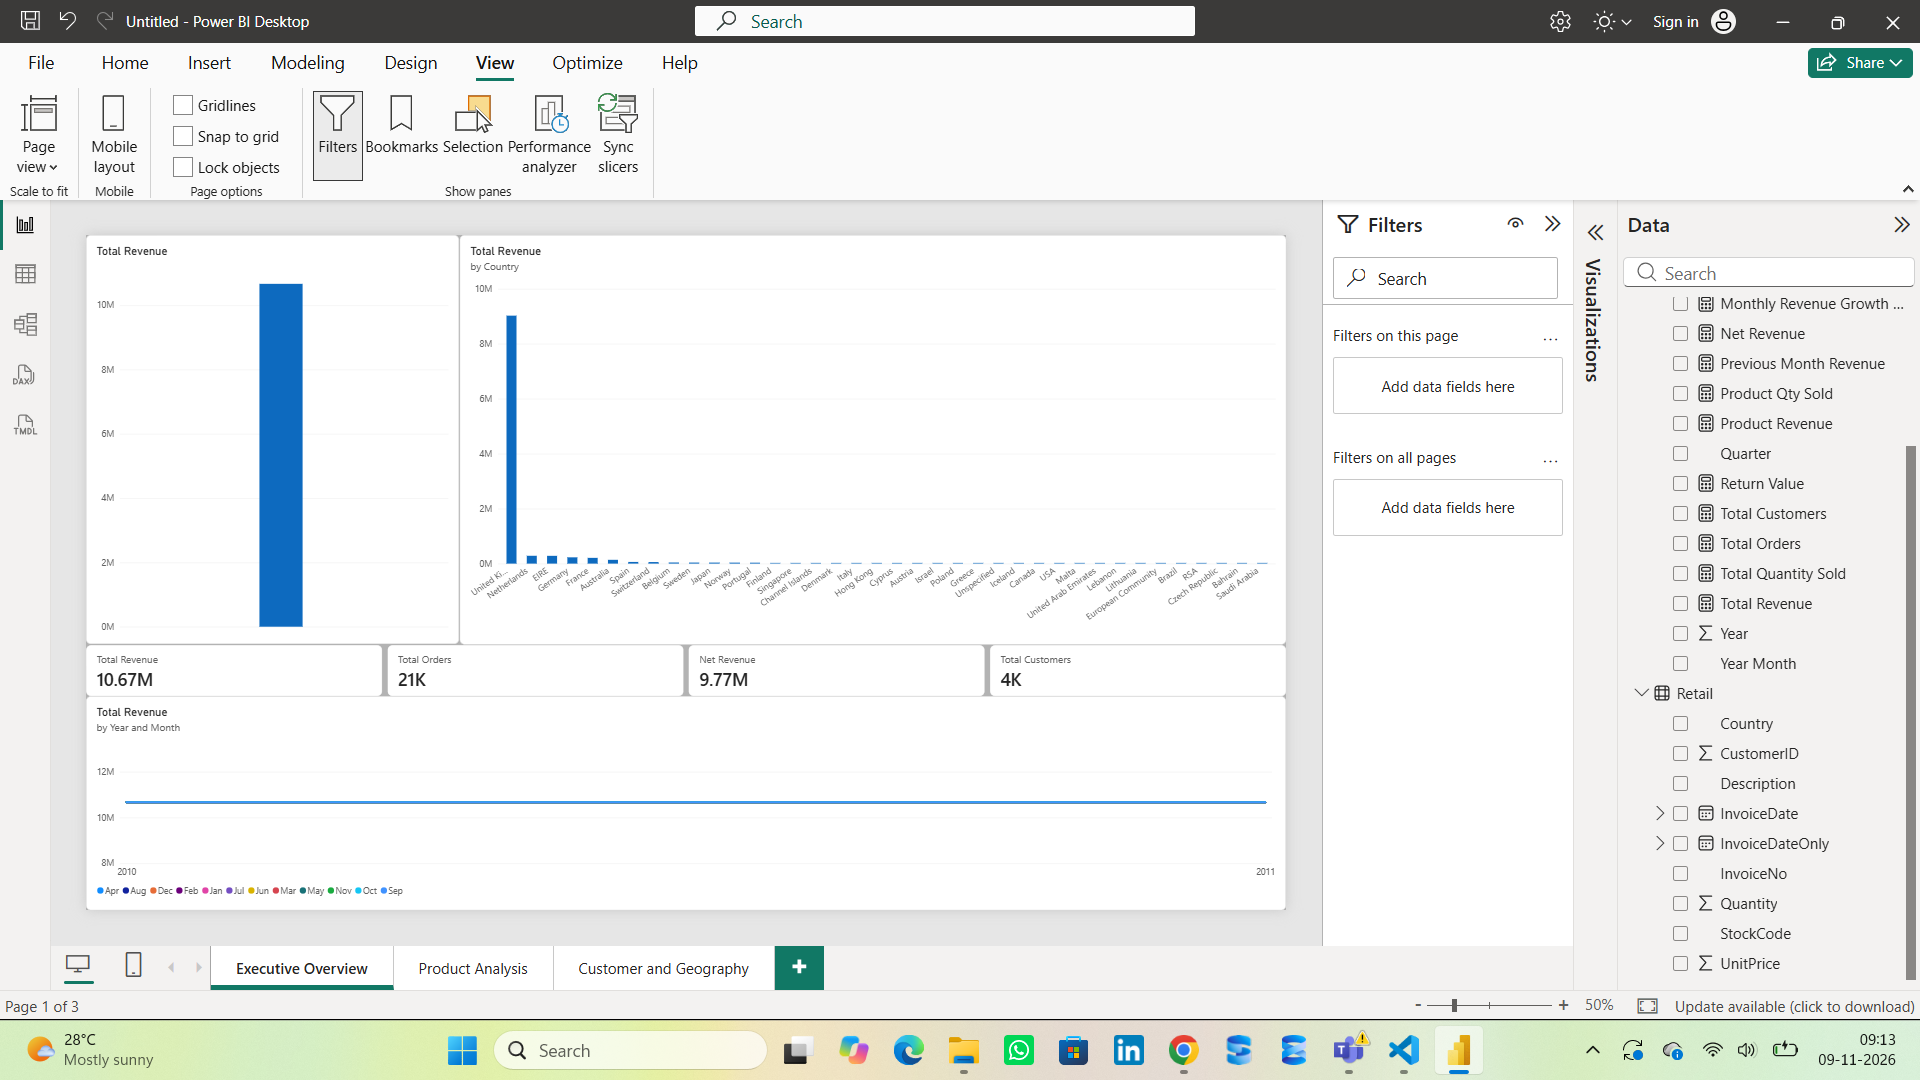

Layout of this report page (visuals, bound fields, positions):
{"tool":"powerbi","page":{"name":"Executive Overview","canvas":[1920,1080],"ordinal":0},"visuals":[{"type":"clusteredColumnChart","fields":{"Y":["DateTable.Total Revenue"]},"box":[0,0,596.9,654.5],"z":0},{"type":"cardVisual","fields":{"Data":["DateTable.Total Revenue","DateTable.Total Orders","DateTable.Net Revenue","DateTable.Total Customers"]},"box":[0,655,1920,82.5],"z":1000},{"type":"lineChart","fields":{"Category":["DateTable.Date.Variation.Date Hierarchy.Year","DateTable.Date.Variation.Date Hierarchy.Quarter","DateTable.Date.Variation.Date Hierarchy.Month","DateTable.Date.Variation.Date Hierarchy.Day"],"Series":["DateTable.Month"],"Y":["DateTable.Total Revenue"]},"box":[0,737.5,1920,342.5],"z":2000},{"type":"clusteredColumnChart","fields":{"Category":["Retail.Country"],"Y":["DateTable.Total Revenue"]},"box":[597.5,0,1322.5,655],"z":3000}]}

Visuals, with their boxes on the page's 1920x1080 design canvas (x1, y1, x2, y2). These are canvas units, not pixel positions in the 1920x1080 screenshot, which may show the page scaled, cropped or inside an application window:
clusteredColumnChart - DateTable.Total Revenue: 0:0:597:654
cardVisual - DateTable.Total Revenue x DateTable.Total Orders: 0:655:1920:738
lineChart - DateTable.Date.Variation.Date Hierarchy.Year x DateTable.Date.Variation.Date Hierarchy.Quarter: 0:738:1920:1080
clusteredColumnChart - Retail.Country x DateTable.Total Revenue: 598:0:1920:655
